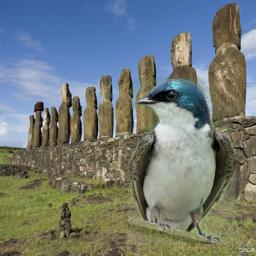Swallow: (128, 77, 236, 244)
